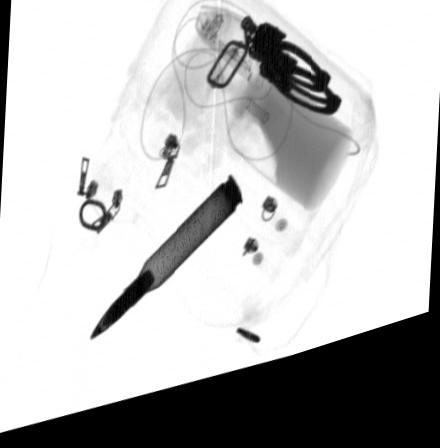Bullet: (86, 184, 246, 347)
HandCuffs: (244, 26, 341, 135)
